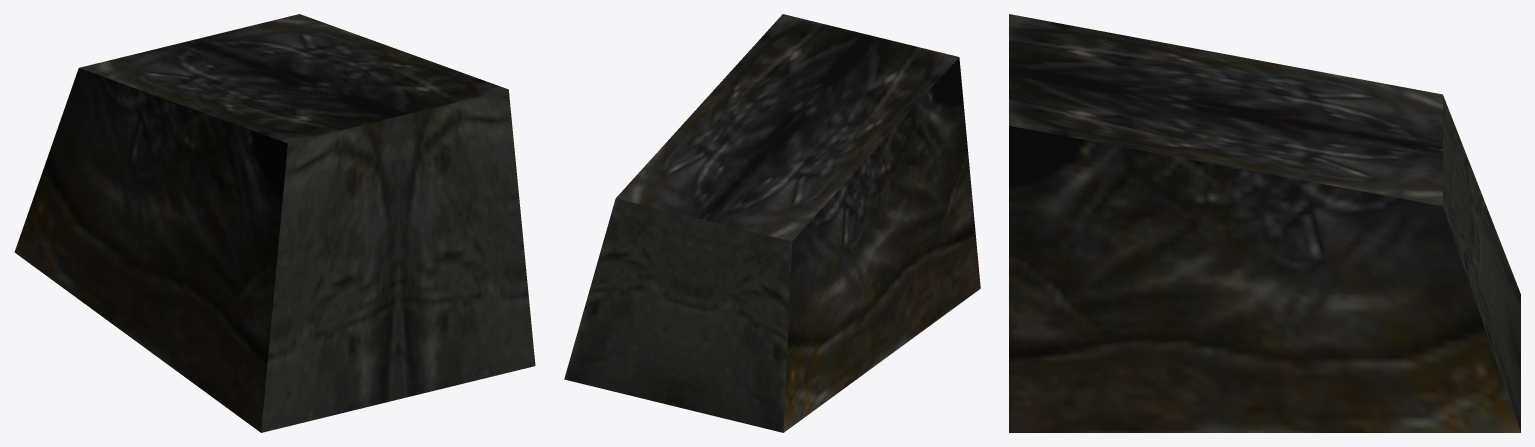
The model's file is arm_jacket_boot.obj.
3 renders of one model, left to right at view 1: azimuth 30°, elevation 25°; view 2: azimuth 150°, elevation 25°; view 3: azimuth 270°, elevation 25°, orthographic. The views are drawn at different scales.
Visible parts, largest first — view 1: arm_jacket_boot_Cube.004; view 2: arm_jacket_boot_Cube.004; view 3: arm_jacket_boot_Cube.004.
Boxes of the visible parts, x1,y1,x2,y2 form: arm_jacket_boot_Cube.004: (14,14,535,432); arm_jacket_boot_Cube.004: (564,14,980,432); arm_jacket_boot_Cube.004: (1009,14,1520,432).
Size of the model in its own units: 1.28 by 1.27 by 2.
